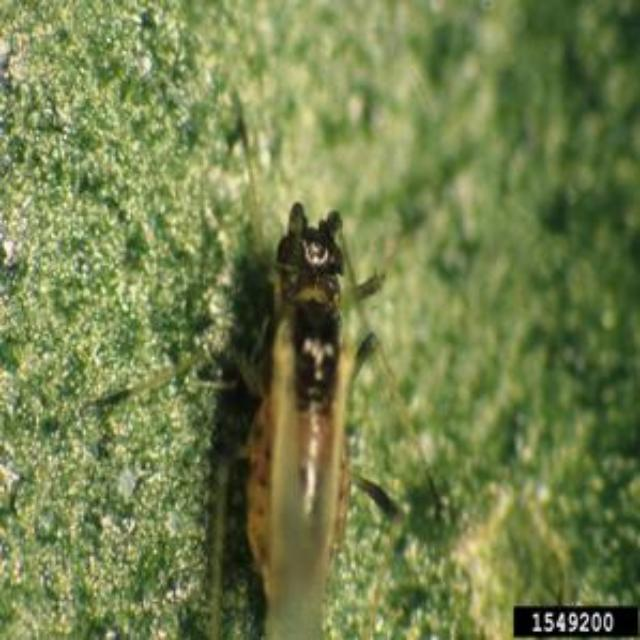Green peach aphid: (136, 144, 478, 640)
